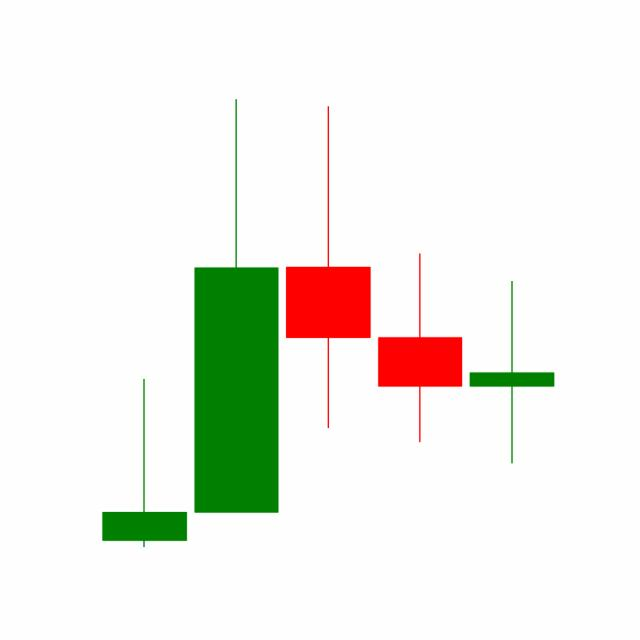Spinning Top: (373, 250, 467, 444)
